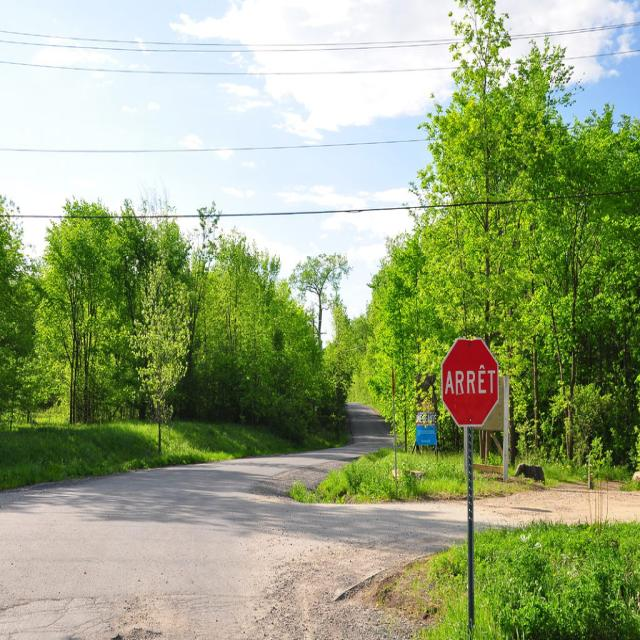Stop-sign: (438, 337, 500, 428)
